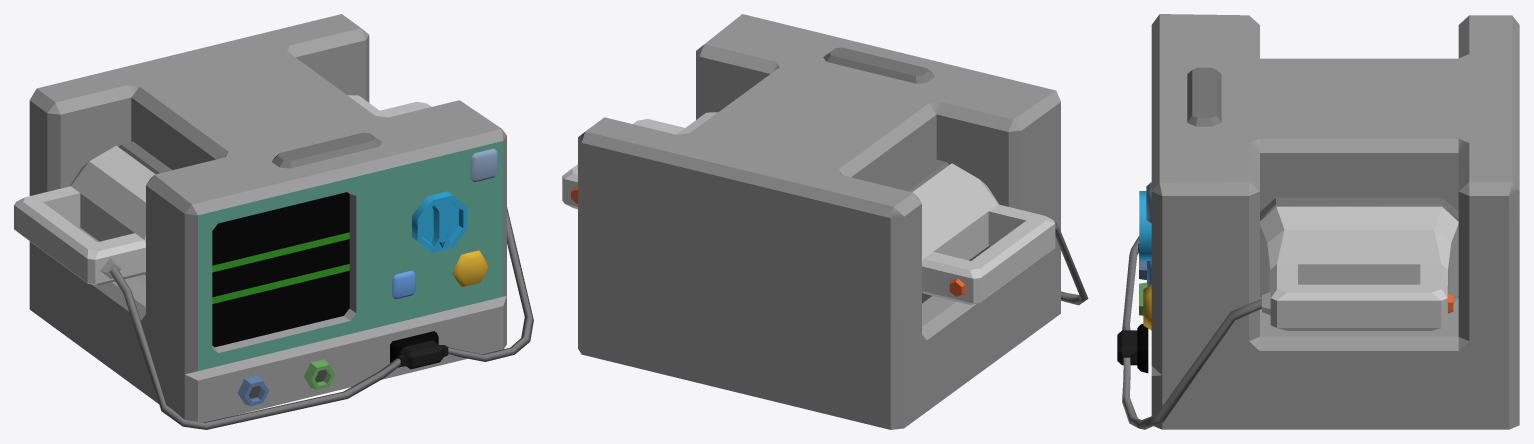
Rendered from Defibrillator Machine 01.fbx.
The picture shows the model from 3 angles, left to right: view 1: azimuth 30°, elevation 25°; view 2: azimuth 150°, elevation 25°; view 3: azimuth 270°, elevation 25°; orthographic projection. The views are drawn at different scales.
Visible parts, largest first — view 1: Defibrillator_Machine_01; view 2: Defibrillator_Machine_01; view 3: Defibrillator_Machine_01.
Part boxes in pixels (x1,y1,x2,y2): Defibrillator_Machine_01: (14, 14, 533, 429); Defibrillator_Machine_01: (562, 14, 1088, 429); Defibrillator_Machine_01: (1117, 14, 1519, 429).
Size of the model in its own units: 88.07 by 45.43 by 66.47.
